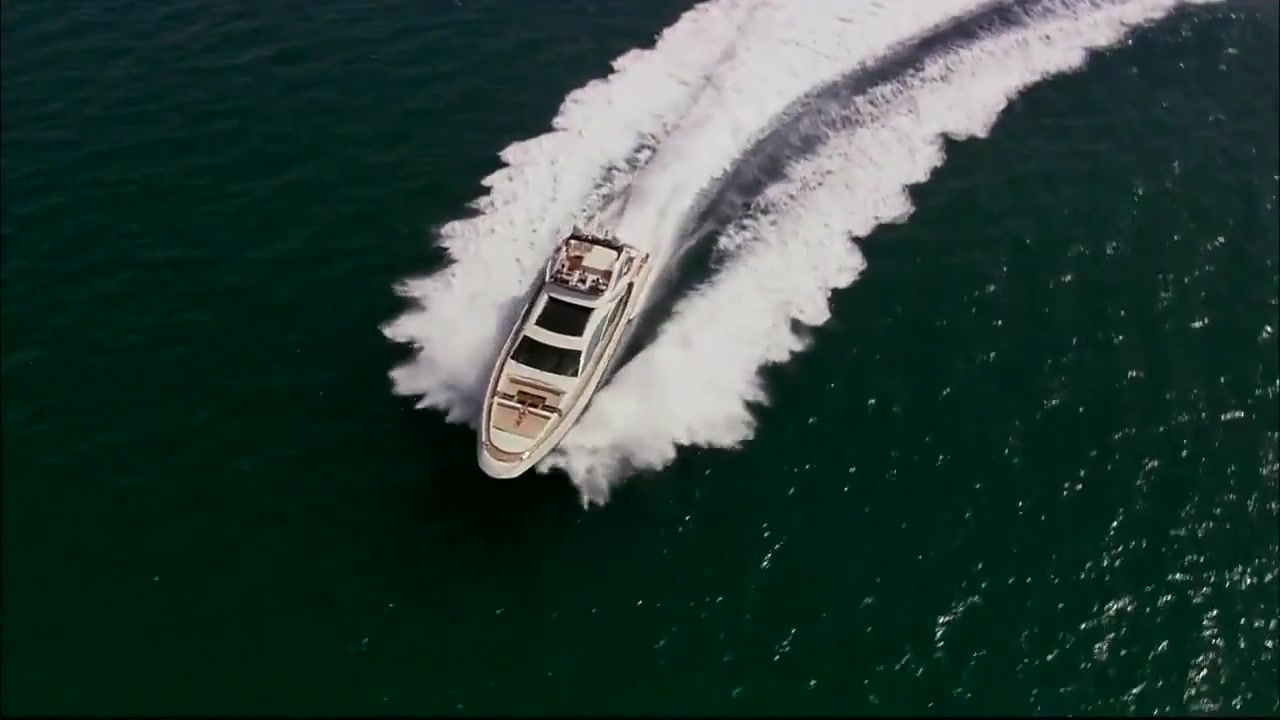boat: (471, 227, 666, 484)
